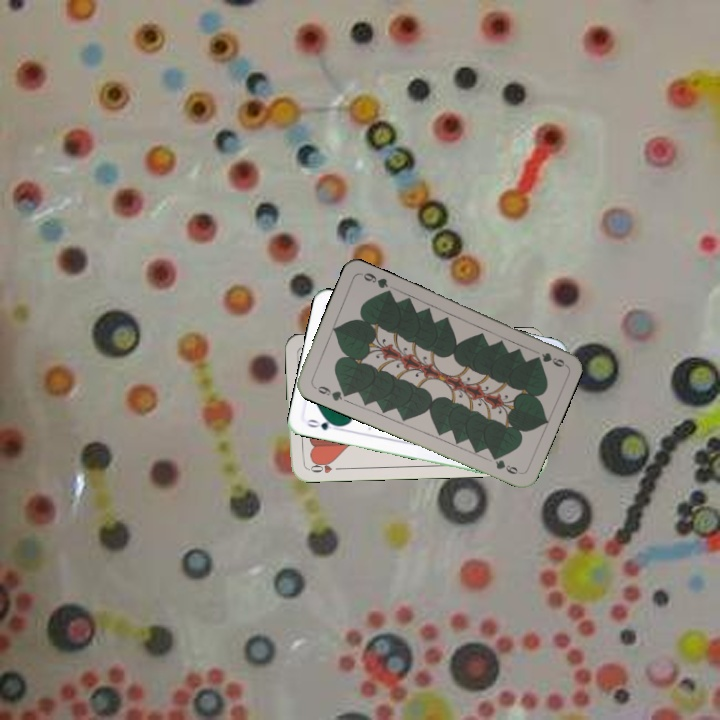G9: (309, 381, 350, 403), (538, 348, 567, 370)
GO: (303, 415, 343, 433)
HO: (303, 457, 344, 476)
